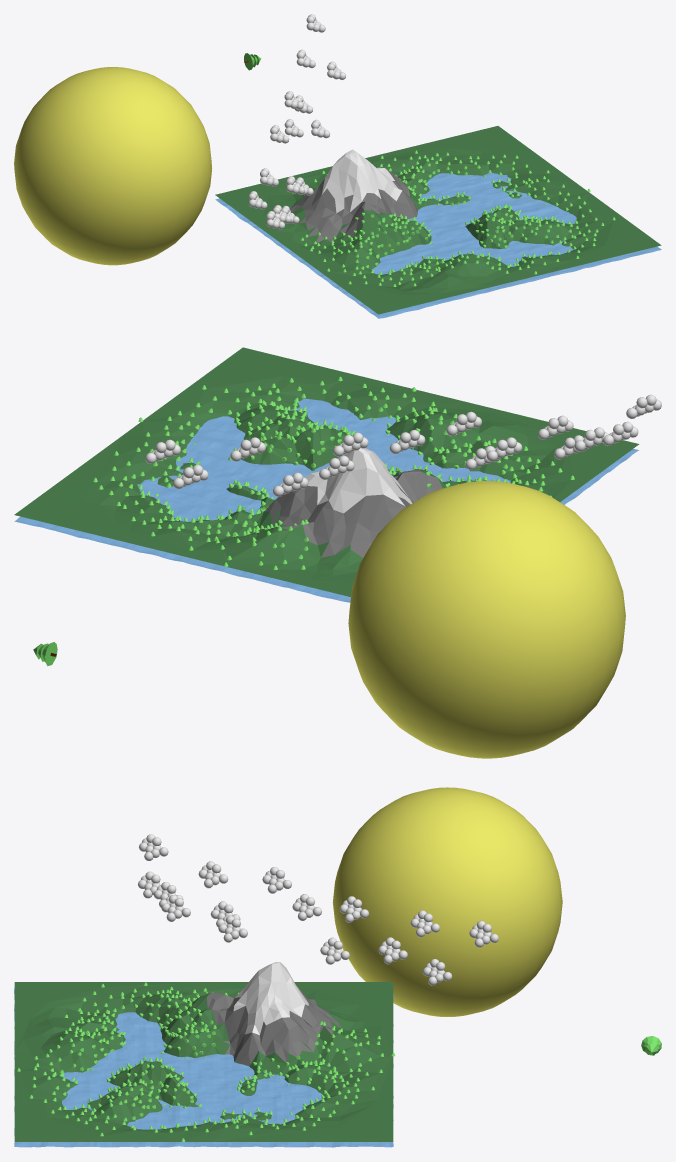
File: Landscape (1).fbx
3 views of the same model, one above another, from view 1: azimuth 30°, elevation 25°; view 2: azimuth 150°, elevation 25°; view 3: azimuth 270°, elevation 25° (orthographic). The views are drawn at different scales.
Parts seen in each view (by area): view 1: Landscape, Sun, Water; view 2: Sun, Landscape, Water; view 3: Landscape, Sun, Water.
Boxes of the visible parts, x1,y1,x2,y2 form: Landscape: (215, 126, 661, 314); Sun: (14, 67, 211, 265); Water: (215, 172, 661, 318); Sun: (348, 481, 625, 758); Landscape: (14, 347, 639, 596); Water: (14, 398, 638, 602); Landscape: (14, 962, 393, 1141); Sun: (332, 787, 562, 1016); Water: (14, 988, 393, 1147).
Size of the model in its own units: 317 by 121 by 342.
